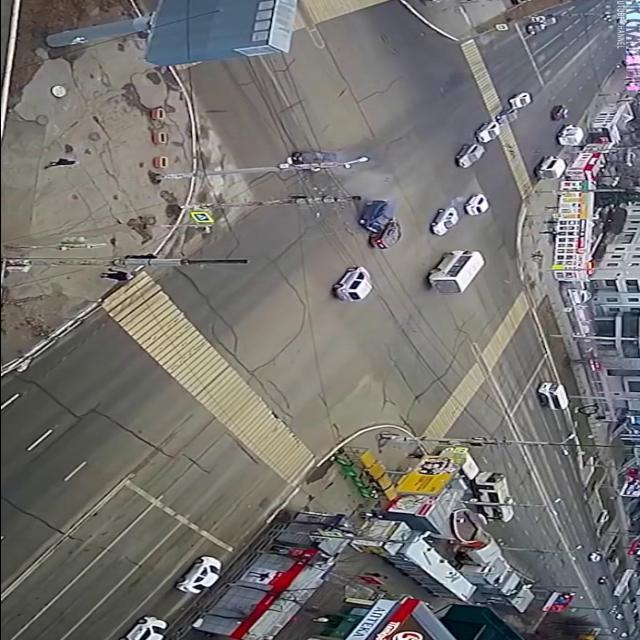accident: (277, 147, 411, 253)
non_accident: (450, 87, 540, 171), (425, 189, 494, 239)
